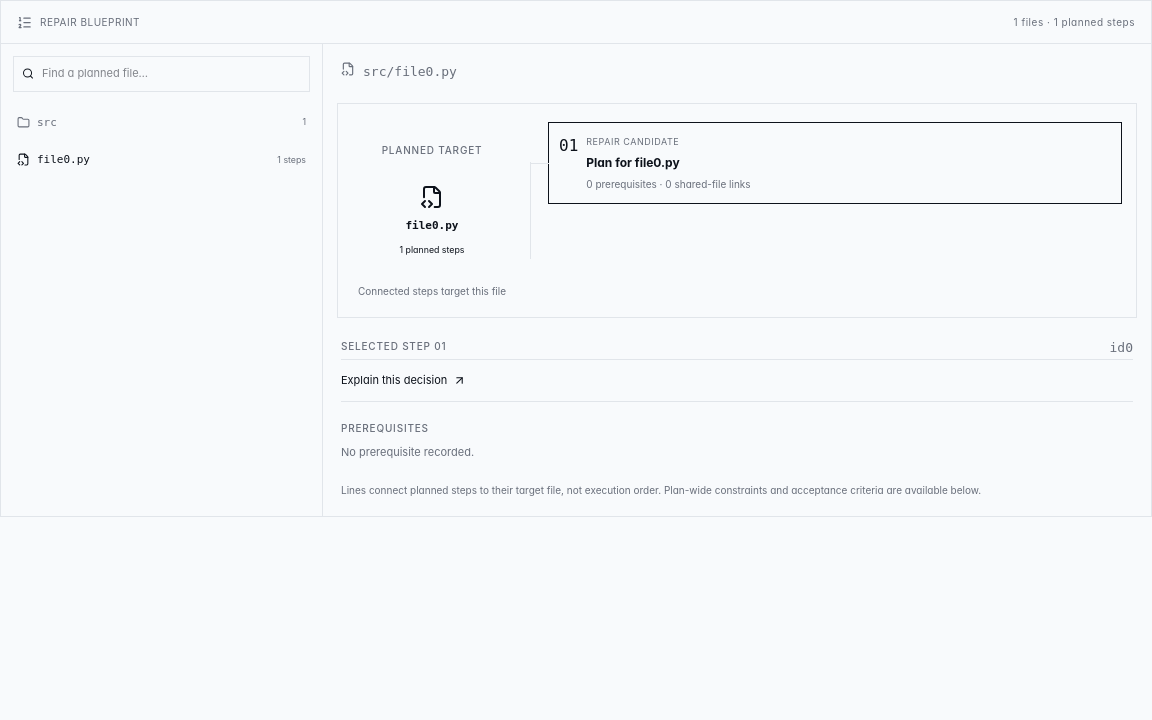
Test: shows a single planned repair and missing evidence honestly
Expected: the text "Plan for file0.py" is shown, [586,155,680,170]
Expected: the text "No prerequisite recorded." is shown, [341,444,474,462]
Click the heading "Explain this decision".
click(404, 380)  # box [341,373,466,387]
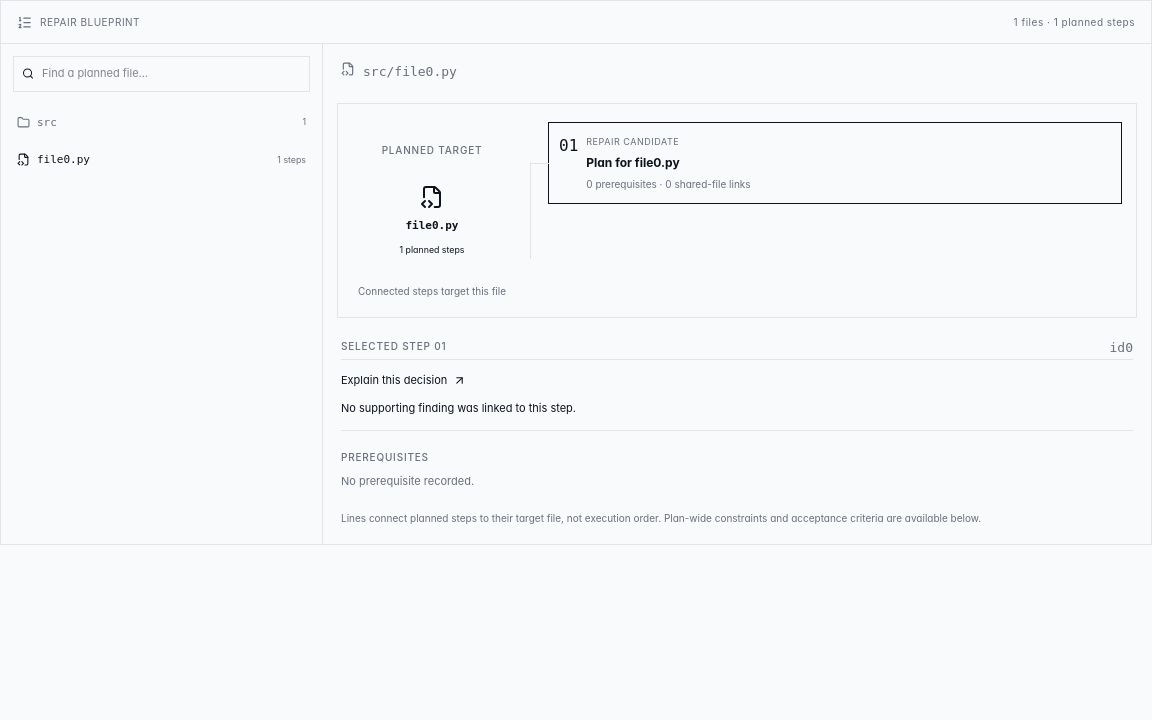
Now the text "No supporting finding was linked to this step." is shown, box [341,401,576,415]
